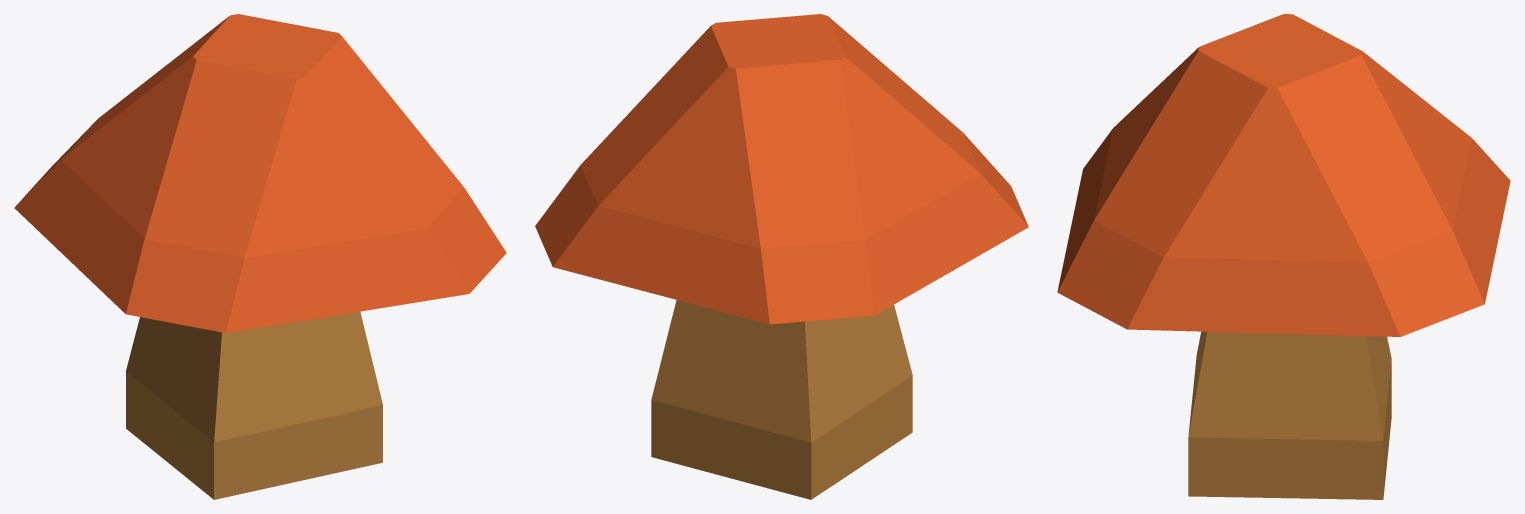
The model's file is mushroom.fbx.
The picture shows the model from 3 angles, left to right: view 1: azimuth 30°, elevation 25°; view 2: azimuth 150°, elevation 25°; view 3: azimuth 270°, elevation 25°; orthographic projection. The views are drawn at different scales.
Parts seen in each view (by area): view 1: mushroom; view 2: mushroom; view 3: mushroom.
Boxes of the visible parts, bbox=[...] form: mushroom: bbox=[14, 14, 506, 499]; mushroom: bbox=[535, 14, 1028, 499]; mushroom: bbox=[1057, 14, 1510, 499].
Bounding box in the file's own units: 37.96 × 38.14 × 37.96.
